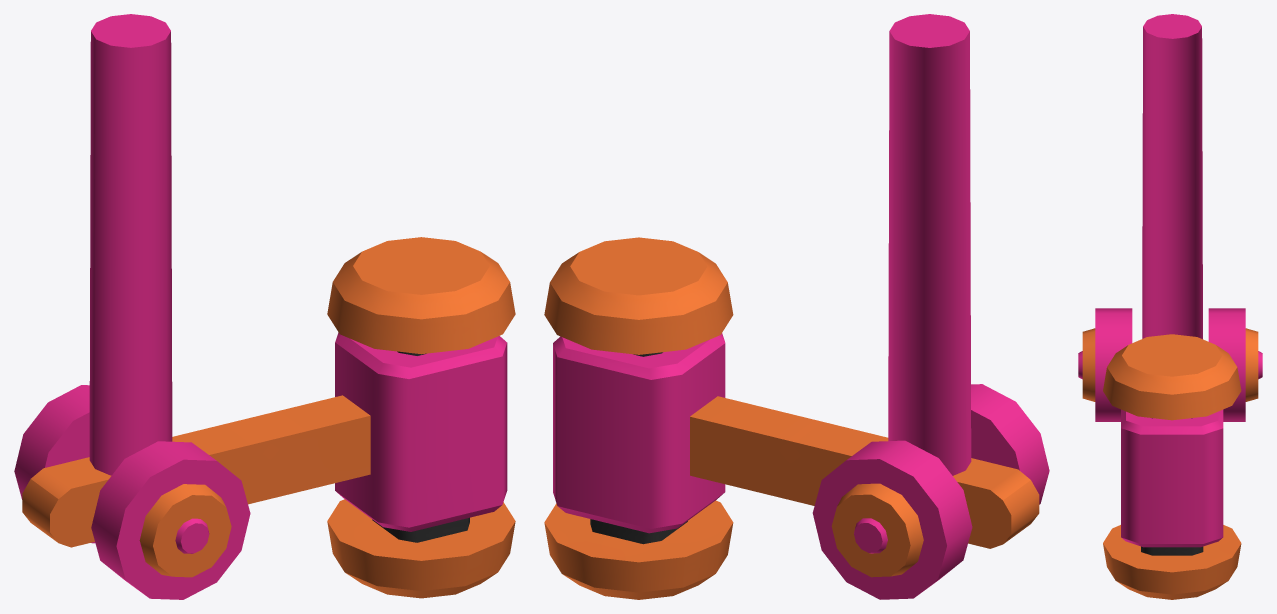
Rendered from Trap_Hammer.FBX.
3 renders of one model, left to right at view 1: azimuth 30°, elevation 25°; view 2: azimuth 150°, elevation 25°; view 3: azimuth 270°, elevation 25°, orthographic. The views are drawn at different scales.
Visible parts, largest first — view 1: hammer, Stage; view 2: hammer, Stage; view 3: hammer, Stage.
Part boxes in pixels (bbox=[...]): hammer: bbox=[22, 237, 515, 598]; Stage: bbox=[14, 14, 250, 599]; hammer: bbox=[544, 237, 1039, 599]; Stage: bbox=[812, 14, 1049, 599]; hammer: bbox=[1103, 334, 1241, 599]; Stage: bbox=[1078, 14, 1262, 421].
Size of the model in its own units: 456 by 569 by 212.
